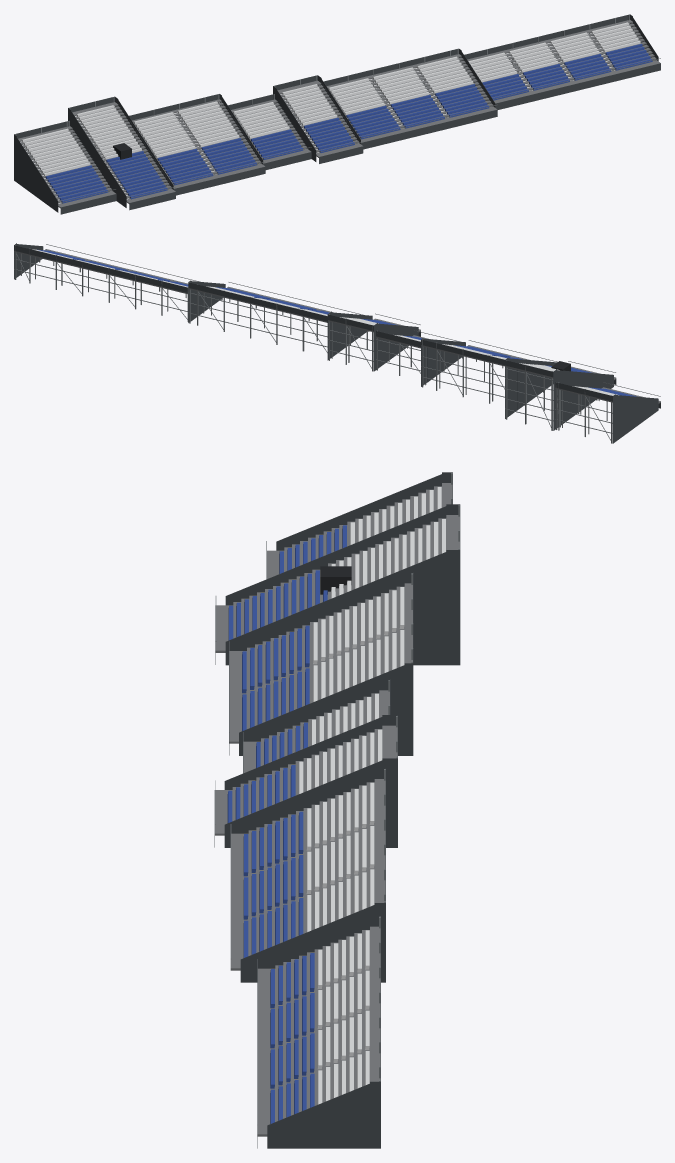
The model's file is rbr_open_t10.glb.
3 renders of one model, top to bottom at view 1: azimuth 30°, elevation 25°; view 2: azimuth 150°, elevation 25°; view 3: azimuth 270°, elevation 25°, orthographic. The views are drawn at different scales.
Visible parts, largest first — view 1: red-bull-ring-t10; view 2: red-bull-ring-t10; view 3: red-bull-ring-t10.
Boxes of the visible parts, x1,y1,x2,y2 form: red-bull-ring-t10: [14, 14, 660, 214]; red-bull-ring-t10: [14, 243, 660, 443]; red-bull-ring-t10: [214, 472, 460, 1148].
Bounding box in the file's own units: 140 × 12.88 × 24.93.
